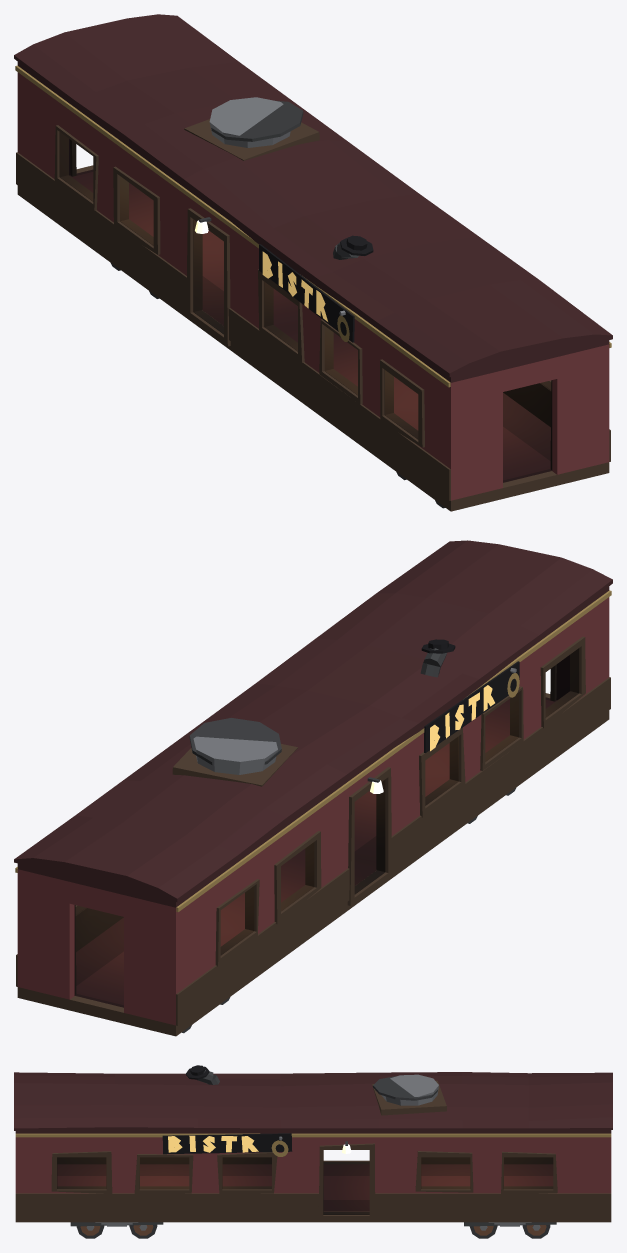
File: car_bistro.glb
The picture shows the model from 3 angles, top to bottom: view 1: azimuth 30°, elevation 25°; view 2: azimuth 150°, elevation 25°; view 3: azimuth 270°, elevation 25°; orthographic projection. The views are drawn at different scales.
Visible parts, largest first — view 1: Exterior, Interior; view 2: Exterior, Interior; view 3: Exterior, Interior.
Part boxes in pixels (left/top/right/bottom): Exterior: left=14, top=14, right=612, bottom=511; Interior: left=59, top=132, right=552, bottom=482; Exterior: left=14, top=540, right=612, bottom=1036; Interior: left=74, top=648, right=579, bottom=1007; Exterior: left=14, top=1065, right=612, bottom=1238; Interior: left=57, top=1150, right=553, bottom=1214.
Bounding box in the file's own units: 4.49 × 4.87 × 18.1.
